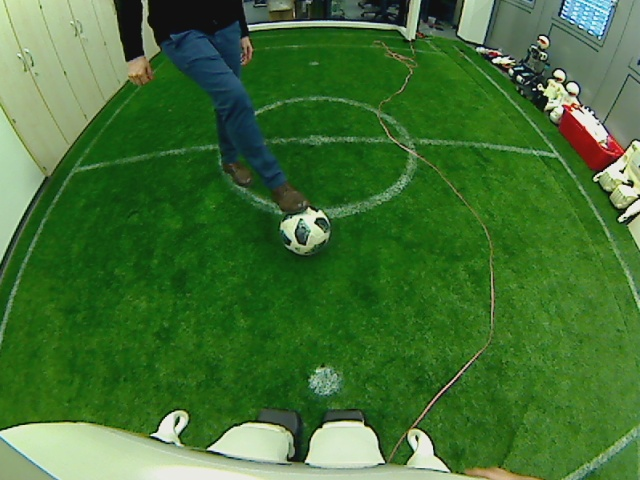ball: (279, 204, 330, 255)
